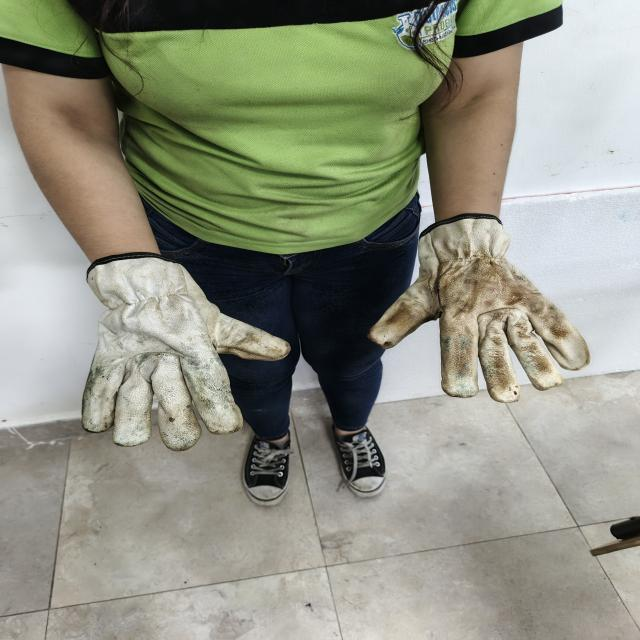gloves: (369, 216, 590, 403), (82, 256, 290, 450)
